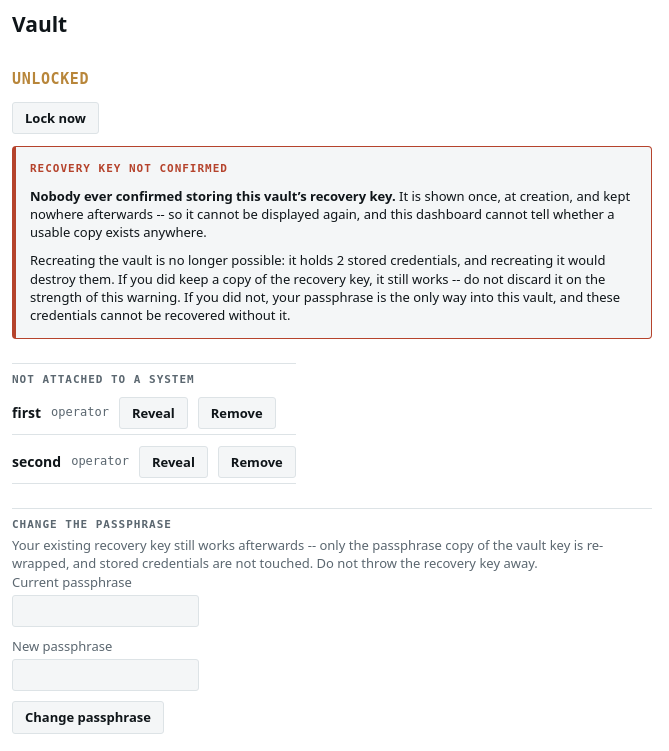
VaultPanel › revealing a secret › revealing one credential does not reveal another
Click the button with test id "reveal-c1". click: (153, 413)
box: [119, 396, 188, 429]
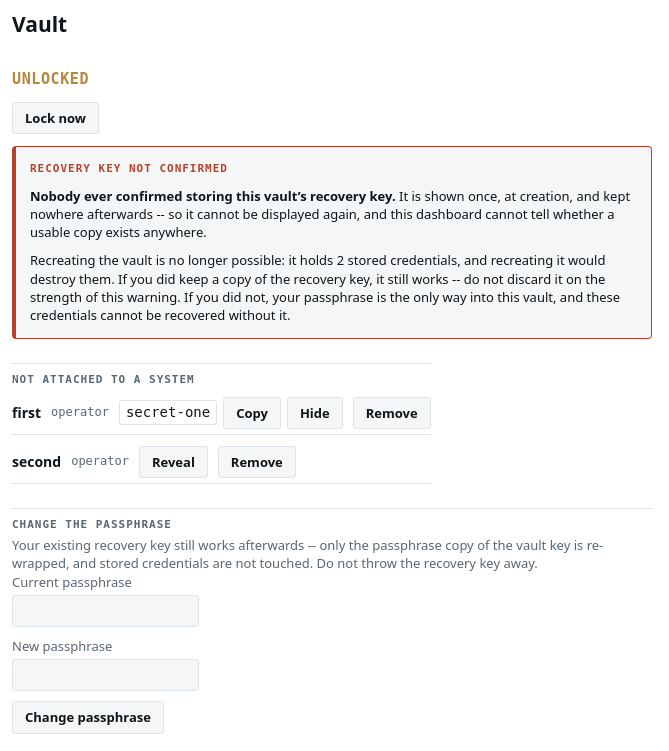
Check: the button with test id "reveal-c2" is shown, box [139, 446, 208, 478]
Check: the text "secret-one" is shown, box [119, 400, 217, 425]
